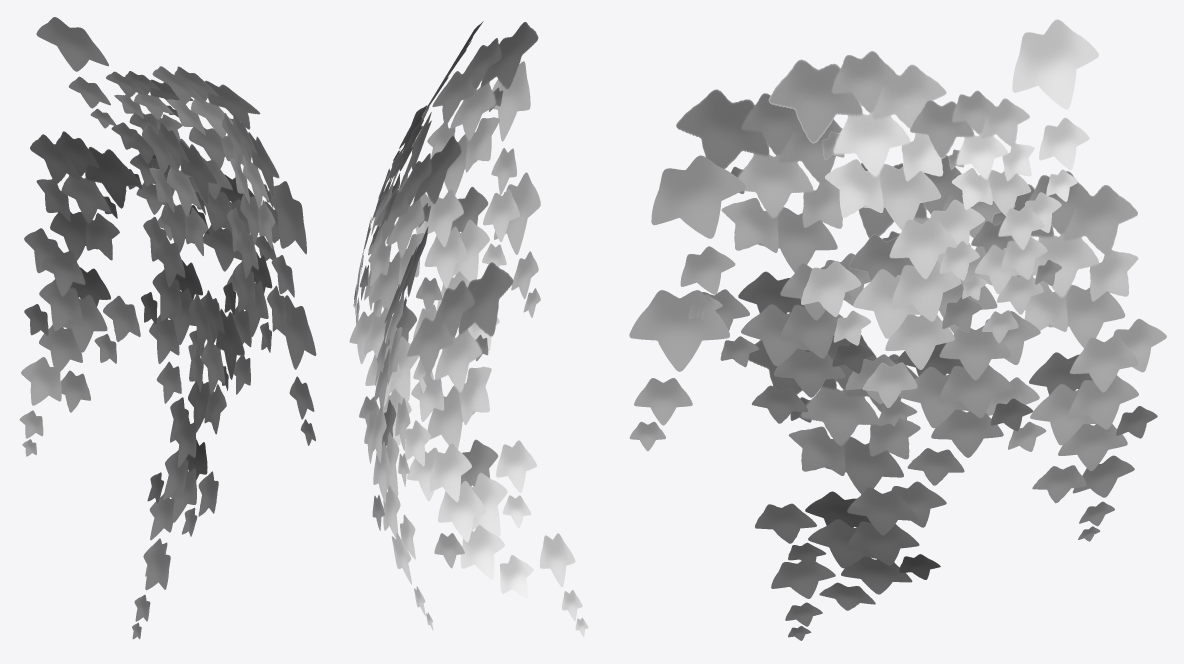
The model's file is IVY1.fbx.
3 views of the same model, side by side, from view 1: azimuth 30°, elevation 25°; view 2: azimuth 150°, elevation 25°; view 3: azimuth 270°, elevation 25° (orthographic). The views are drawn at different scales.
Parts seen in each view (by area): view 1: Object008; view 2: Object008; view 3: Object008.
Part boxes in pixels (x1,y1,x2,y2): Object008: [19, 17, 316, 639]; Object008: [349, 21, 588, 636]; Object008: [629, 19, 1166, 640].
Size of the model in its own units: 262 by 345 by 110.
